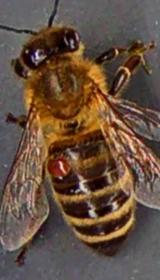varroa_mite: (42, 152, 76, 180)
